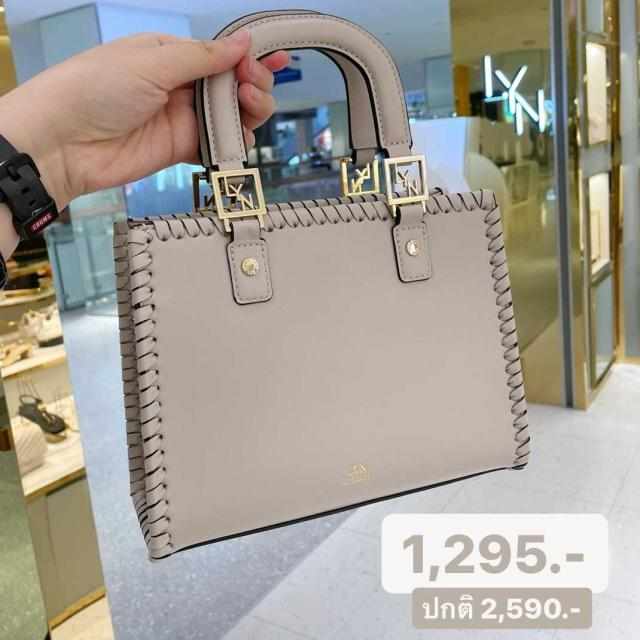handbag: (105, 152, 536, 565)
